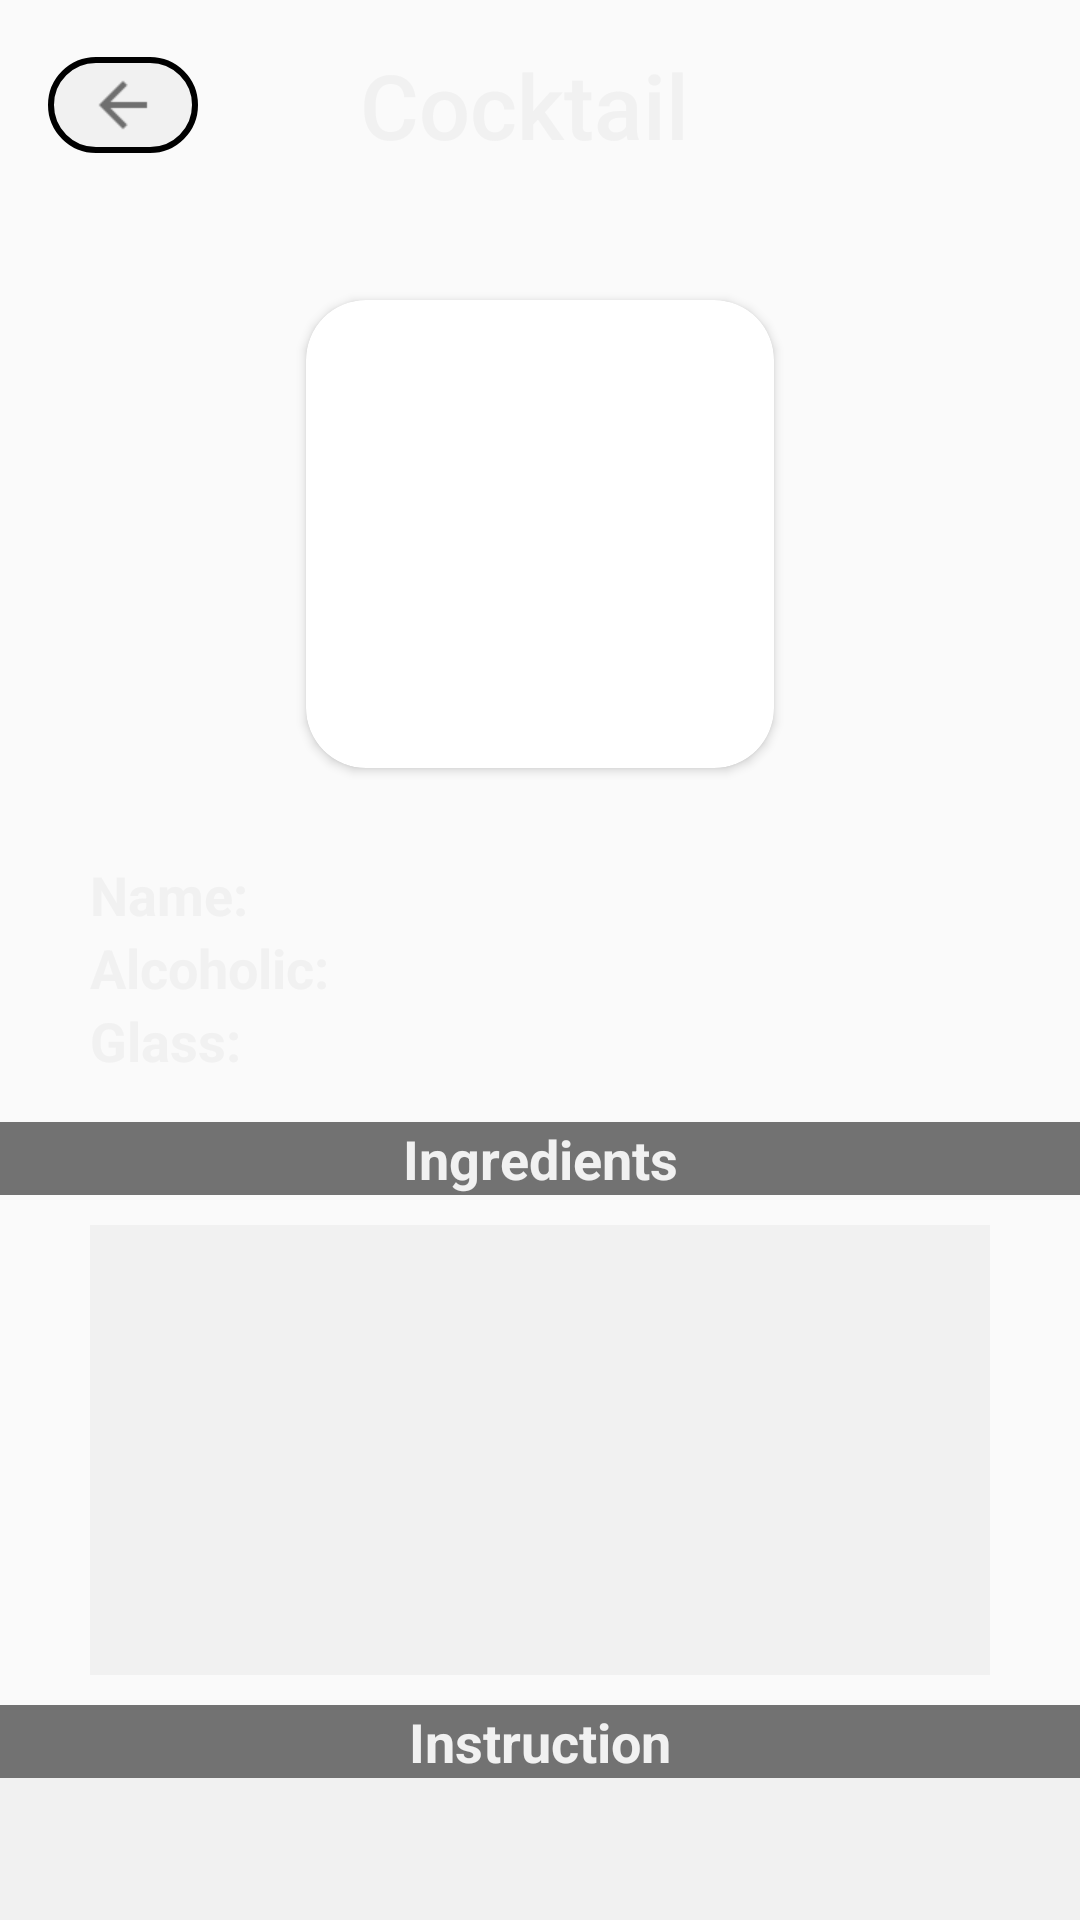

Where to tap for icons on this 1080px×1920px app screen, as (x=x, y=y):
arrow back: (x=123, y=105)
